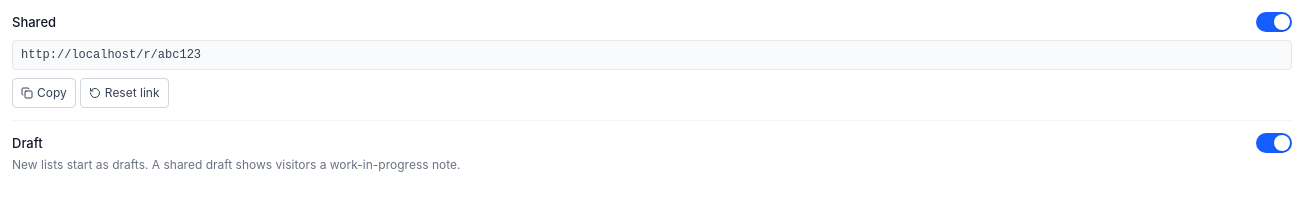
Test: PrivacyPanel - resetting the share link › does not reset on the first click - it asks first
Click the button "Reset link" at x=124, y=93, box [80,78,168,108]
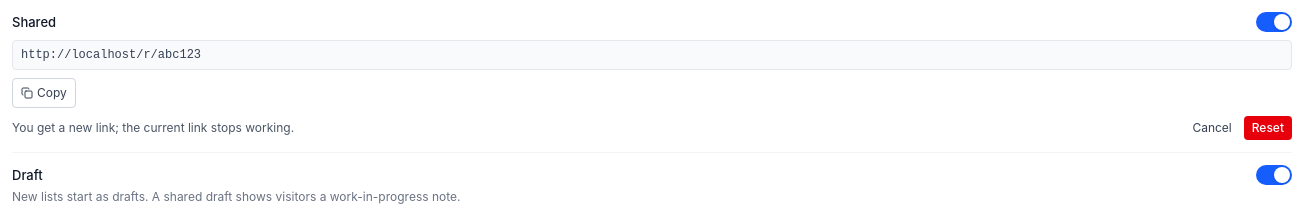
Result: the text "You get a new link; the current link stops working." is shown at [12,120,294,136]
